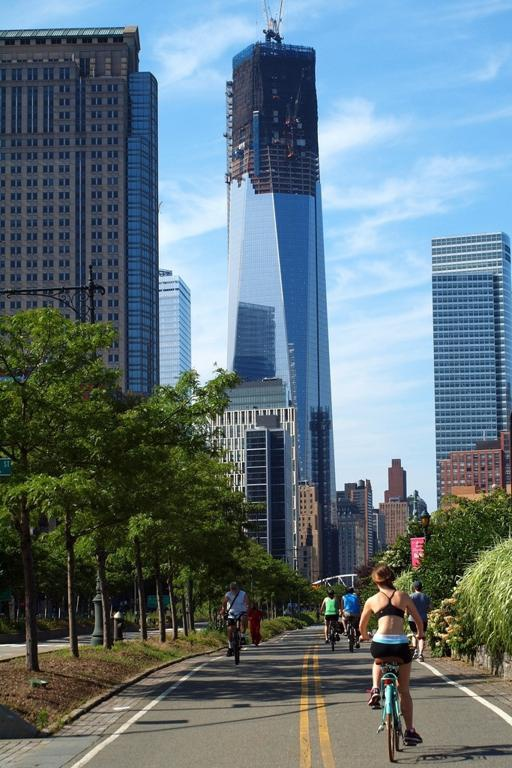non-vehicle: (360, 631, 426, 761), (220, 609, 247, 665), (337, 608, 363, 652), (319, 608, 341, 652)
